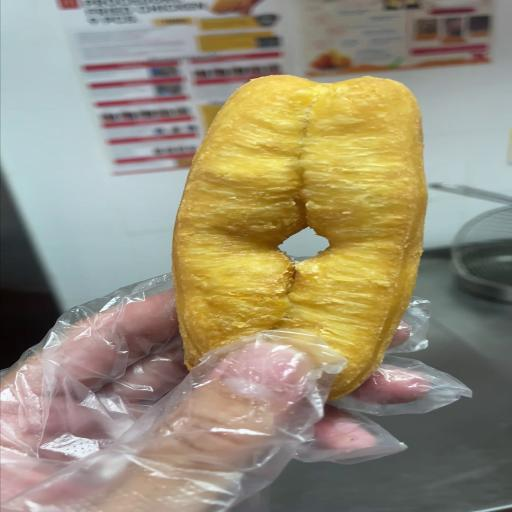brand_golden_defect: (173, 75, 426, 399)
